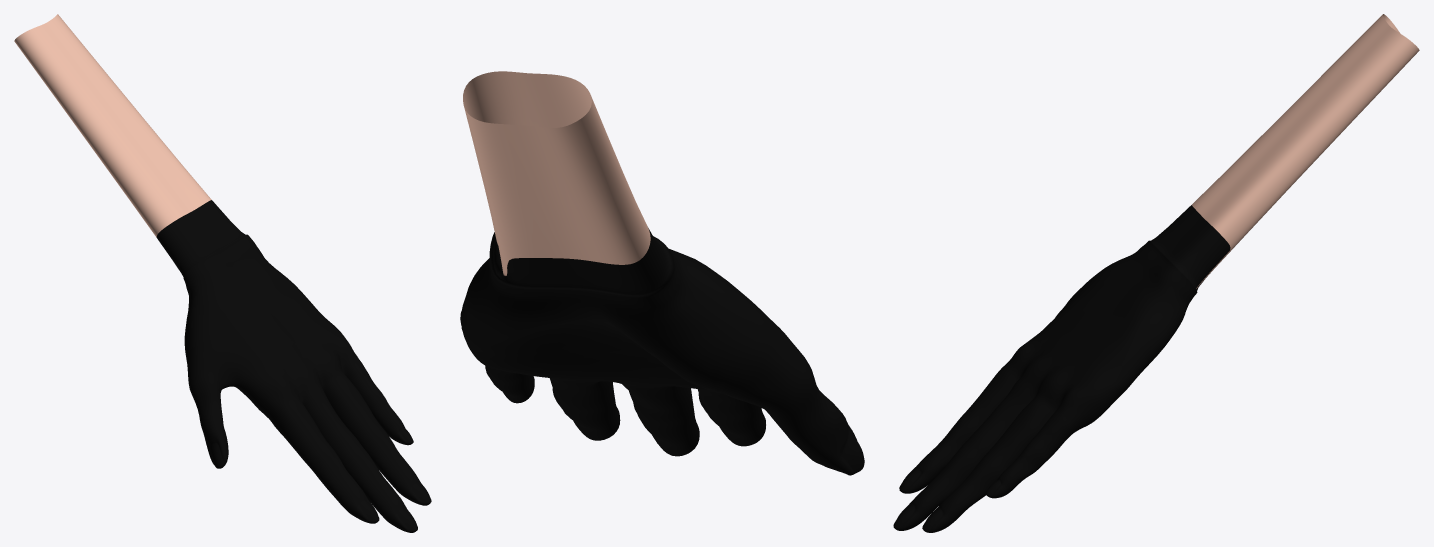
The model's file is sag_el.fbx.
3 renders of one model, left to right at view 1: azimuth 30°, elevation 25°; view 2: azimuth 150°, elevation 25°; view 3: azimuth 270°, elevation 25°, orthographic. The views are drawn at different scales.
Visible parts, largest first — view 1: hand.001; view 2: hand.001; view 3: hand.001.
Boxes of the visible parts, x1=… form: hand.001: x1=14, y1=14, x2=431, y2=532; hand.001: x1=460, y1=71, x2=864, y2=475; hand.001: x1=893, y1=14, x2=1419, y2=532.
Size of the model in its own units: 23.77 by 39.73 by 44.41.
